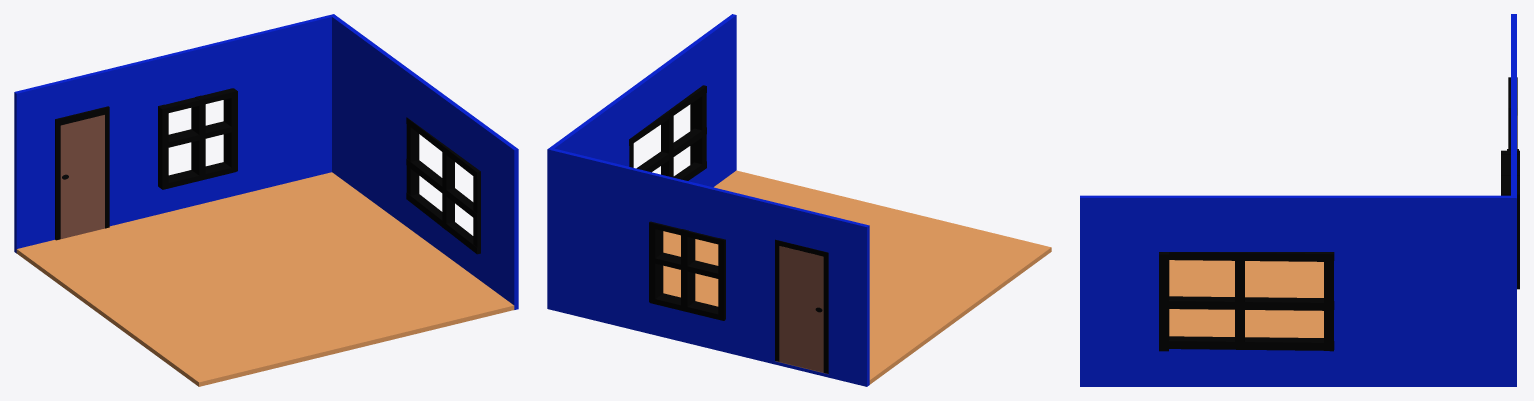
Rendered from room.glb.
3 views of the same model, side by side, from view 1: azimuth 30°, elevation 25°; view 2: azimuth 150°, elevation 25°; view 3: azimuth 270°, elevation 25° (orthographic). The views are drawn at different scales.
Parts seen in each view (by area): view 1: floor, wall1, wall2, door.004, Cube.011, Cube.010, Cube.003, Cube.008, Cube.009, Cube.006, Cube.004, Cube.005 (+6 smaller); view 2: wall1, floor, wall2, door.004, Cube.003, Cube.008, Cube.012, Cube.011, Cube.006, Cube.004, door.001, Cube.002 (+3 smaller); view 3: wall2, floor, wall1, Cube.011, Cube.010, Cube.002, Cube.012, Cube.001, Cube.009, Cube.007.
Part boxes in pixels (left/top/right/bottom): floor: left=16, top=172, right=514, bottom=386; wall1: left=14, top=14, right=333, bottom=253; wall2: left=330, top=14, right=518, bottom=309; door.004: left=60, top=115, right=104, bottom=238; Cube.011: left=406, top=158, right=480, bottom=220; Cube.010: left=406, top=192, right=480, bottom=254; Cube.003: left=191, top=95, right=205, bottom=175; Cube.008: left=223, top=88, right=237, bottom=171; Cube.009: left=442, top=146, right=454, bottom=229; Cube.006: left=158, top=162, right=236, bottom=189; Cube.004: left=162, top=121, right=236, bottom=148; Cube.005: left=158, top=104, right=168, bottom=188; wall1: left=547, top=148, right=869, bottom=386; floor: left=663, top=170, right=1051, bottom=384; wall2: left=548, top=14, right=736, bottom=187; door.004: left=779, top=246, right=823, bottom=372; Cube.003: left=681, top=229, right=695, bottom=310; Cube.008: left=649, top=221, right=663, bottom=303; Cube.012: left=690, top=93, right=706, bottom=164; Cube.011: left=636, top=127, right=706, bottom=172; Cube.006: left=650, top=293, right=724, bottom=320; Cube.004: left=655, top=252, right=718, bottom=278; door.001: left=823, top=252, right=828, bottom=373; Cube.002: left=629, top=85, right=706, bottom=145; wall2: left=1080, top=195, right=1516, bottom=386; floor: left=1169, top=260, right=1323, bottom=337; wall1: left=1511, top=14, right=1516, bottom=386; Cube.011: left=1169, top=296, right=1334, bottom=310; Cube.010: left=1169, top=336, right=1334, bottom=350; Cube.002: left=1159, top=252, right=1334, bottom=261; Cube.012: left=1159, top=252, right=1169, bottom=351; Cube.001: left=1324, top=254, right=1333, bottom=351; Cube.009: left=1235, top=261, right=1244, bottom=349; Cube.007: left=1501, top=154, right=1519, bottom=194.
Bounding box in the file's own units: 48.84 × 23.02 × 48.59.
